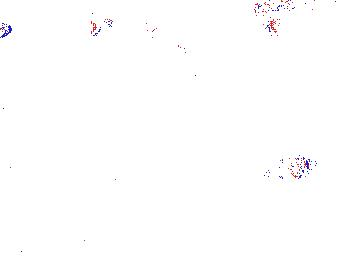X-ray fish: (262, 153, 318, 182)
glassfish: (86, 4, 209, 74)
redtail glassfish: (254, 3, 279, 40), (89, 19, 115, 44)
